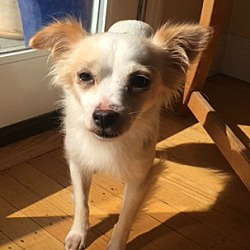dog: (29, 14, 212, 246)
